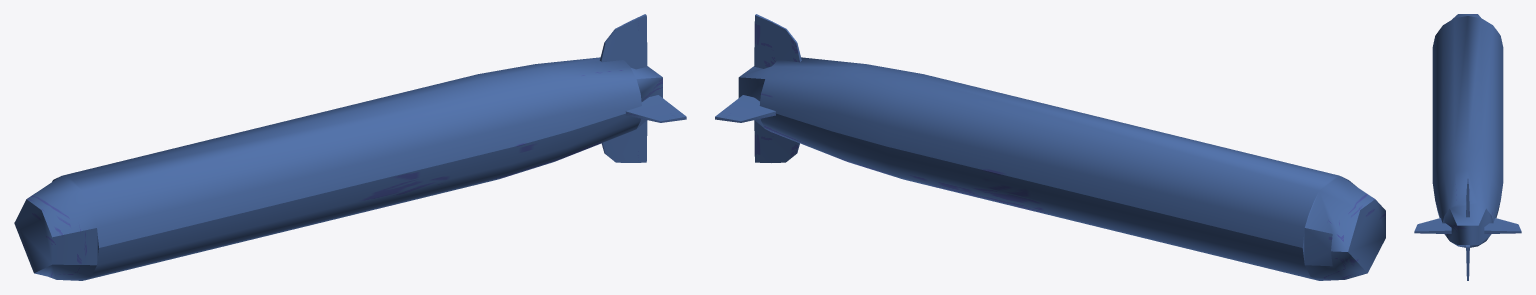
File: torpedo.obj
The picture shows the model from 3 angles, left to right: view 1: azimuth 30°, elevation 25°; view 2: azimuth 150°, elevation 25°; view 3: azimuth 270°, elevation 25°; orthographic projection. The views are drawn at different scales.
Visible parts, largest first — view 1: Cube.003; view 2: Cube.003; view 3: Cube.003.
Boxes of the visible parts, x1,y1,x2,y2 form: Cube.003: [14, 14, 686, 280]; Cube.003: [715, 14, 1385, 280]; Cube.003: [1414, 14, 1521, 280].
Bounding box in the file's own units: 5.62 × 1.28 × 1.28.
Materials: 1 (1 with a texture image).
